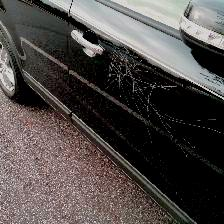door_scratch: (106, 44, 174, 114)
